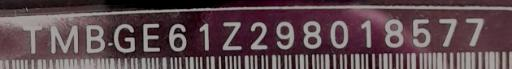letter: (43, 23, 79, 54), (214, 21, 244, 52), (432, 16, 460, 49), (162, 22, 190, 55), (324, 19, 352, 50), (110, 22, 138, 53), (378, 19, 404, 52), (244, 19, 270, 52), (406, 18, 432, 49), (80, 23, 106, 54), (352, 19, 376, 52), (271, 19, 295, 52), (297, 20, 323, 49), (461, 16, 485, 47), (140, 22, 162, 55), (18, 24, 42, 53), (191, 23, 213, 52)
